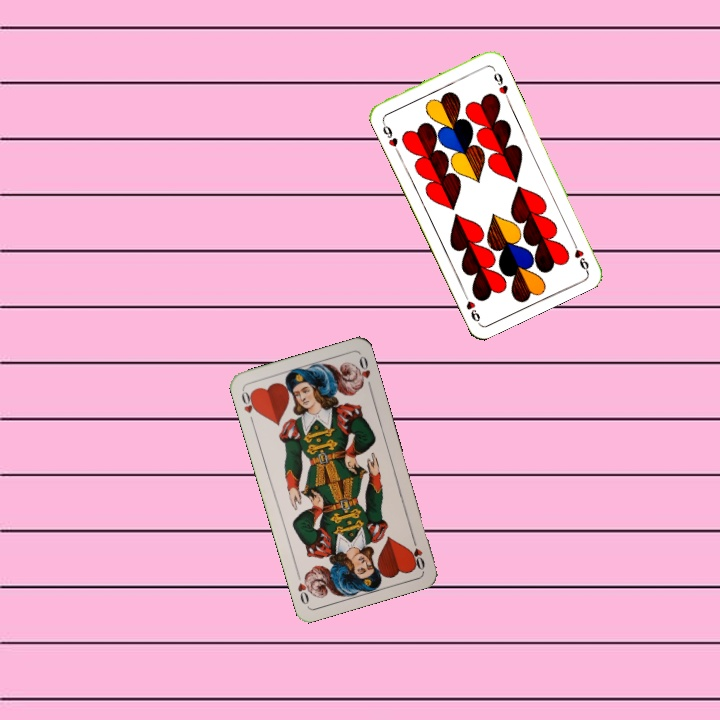H9: (567, 235, 592, 273), (378, 116, 401, 155)
HO: (237, 386, 260, 426), (407, 533, 427, 573)
